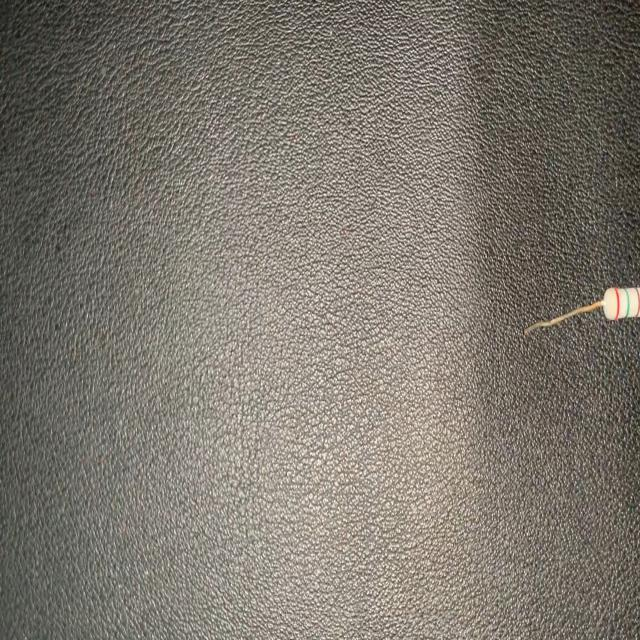resistor: (515, 268, 640, 353)
